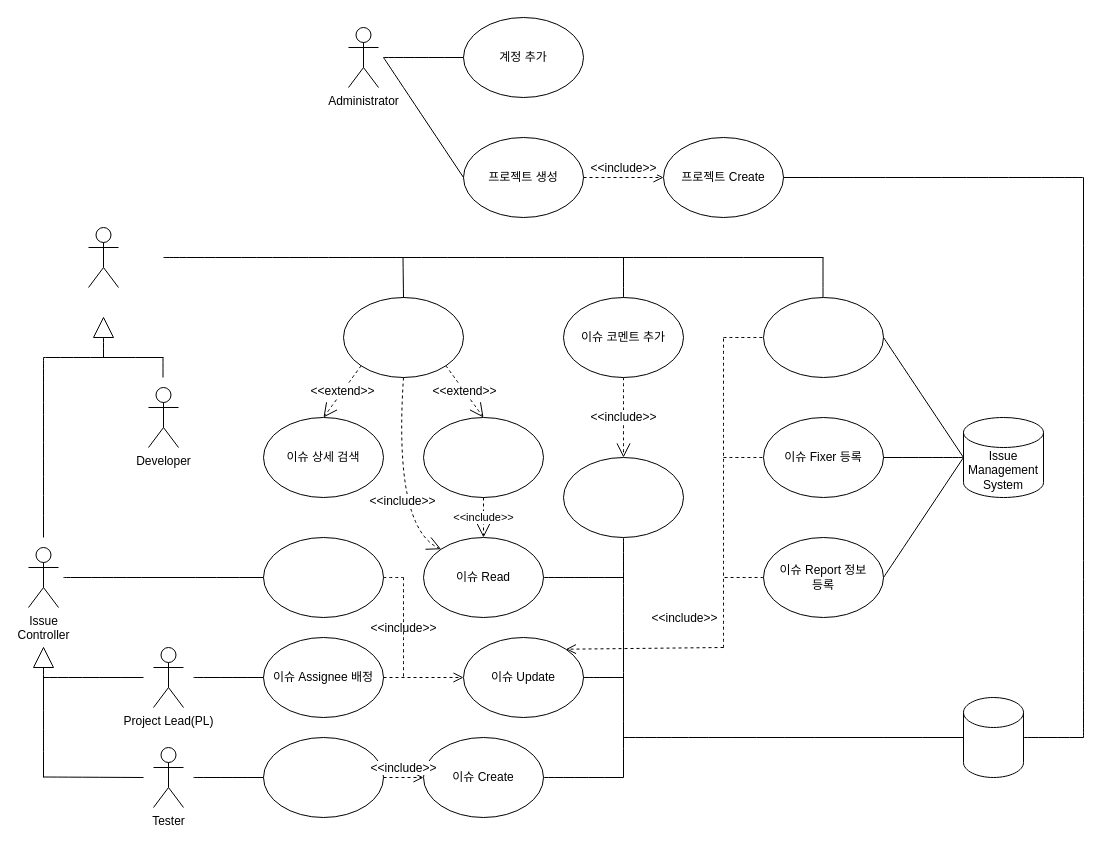
Some shapes in this 1102 by 846 pixel diagram are drawn without their labels. Here are the shapes that lost their labels. From the top down, the centre of each, then its label:
(x=103, y=257): Employee
(x=403, y=337): 이슈 검색
(x=823, y=337): 이슈 상태 변경
(x=483, y=457): 이슈 상세정보 확인
(x=623, y=497): 코멘트 Create
(x=323, y=577): 이슈 수정
(x=993, y=737): DB
(x=323, y=777): 이슈 생성
